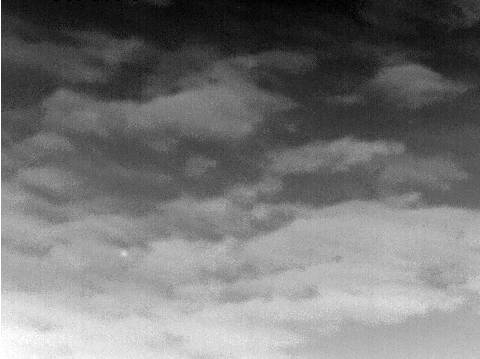dim target: (118, 248, 129, 260)
